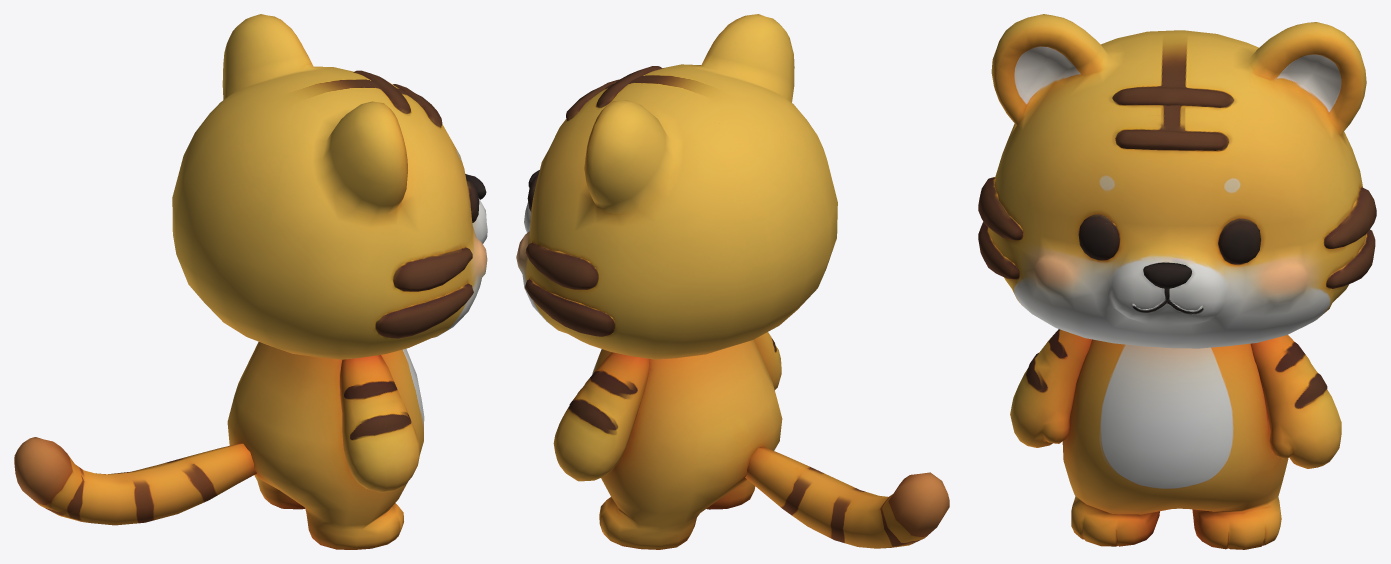
The model's file is tiger.glb.
3 renders of one model, left to right at view 1: azimuth 30°, elevation 25°; view 2: azimuth 150°, elevation 25°; view 3: azimuth 270°, elevation 25°, orthographic. The views are drawn at different scales.
Parts seen in each view (by area): view 1: tripo_node_50ee2ebb-b12d-45d1-9351-680ff44a9929; view 2: tripo_node_50ee2ebb-b12d-45d1-9351-680ff44a9929; view 3: tripo_node_50ee2ebb-b12d-45d1-9351-680ff44a9929.
Part boxes in pixels (x1,y1,x2,y2): tripo_node_50ee2ebb-b12d-45d1-9351-680ff44a9929: (14, 14, 487, 549); tripo_node_50ee2ebb-b12d-45d1-9351-680ff44a9929: (516, 14, 949, 549); tripo_node_50ee2ebb-b12d-45d1-9351-680ff44a9929: (978, 14, 1376, 549).
Size of the model in its own units: 0.998 by 0.998 by 0.7129.
1 material, 1 textured.
